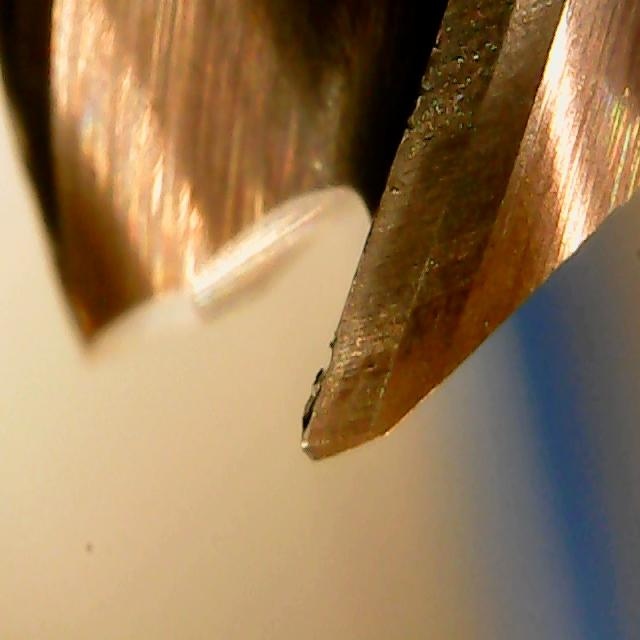Tool-wear-class-1: (262, 253, 456, 465)
